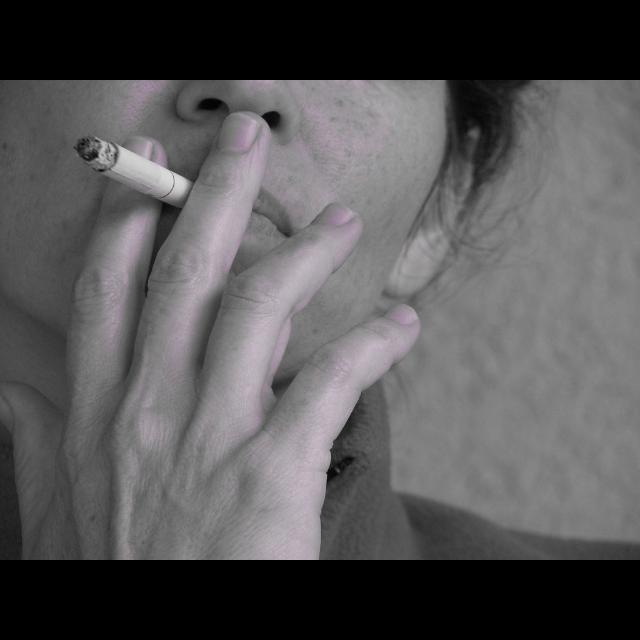rokok: (65, 124, 218, 232)
